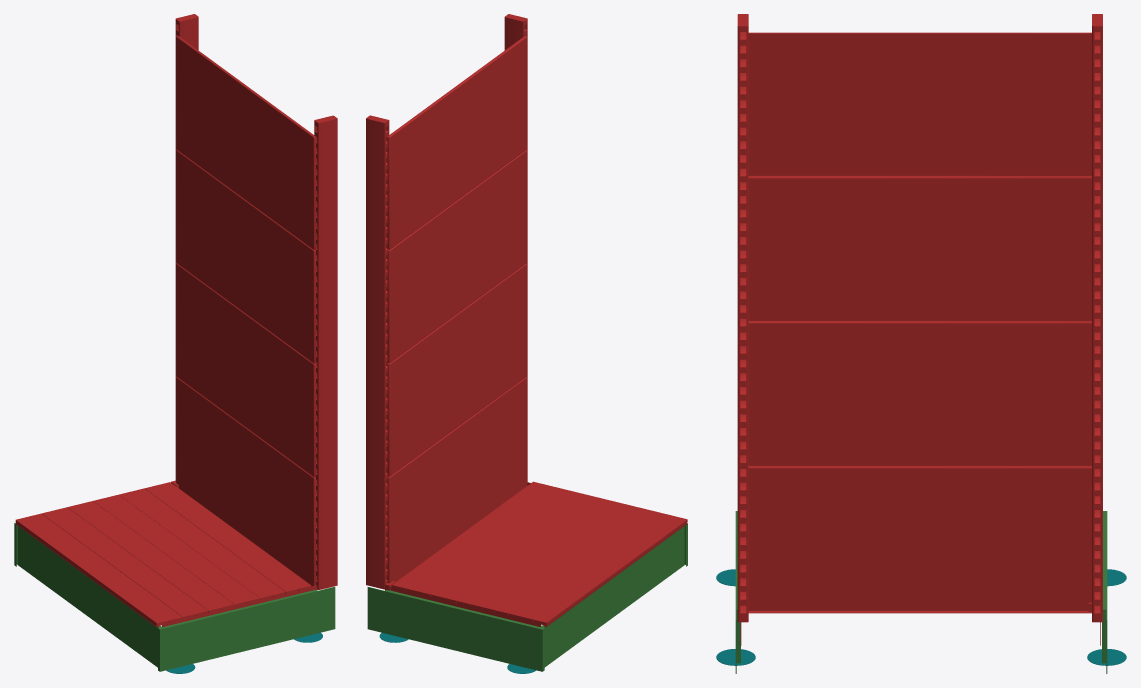
The model's file is SM_Shelves_Base_01.fbx.
3 renders of one model, left to right at view 1: azimuth 30°, elevation 25°; view 2: azimuth 150°, elevation 25°; view 3: azimuth 270°, elevation 25°, orthographic. The views are drawn at different scales.
Parts seen in each view (by area): view 1: SM_Shelves_Base_01; view 2: SM_Shelves_Base_01; view 3: SM_Shelves_Base_01.
Part boxes in pixels (<box>): SM_Shelves_Base_01: <box>14,14,337,673</box>; SM_Shelves_Base_01: <box>366,14,687,673</box>; SM_Shelves_Base_01: <box>716,14,1126,673</box>.
Bounding box in the file's own units: 73.77 × 200 × 114.
